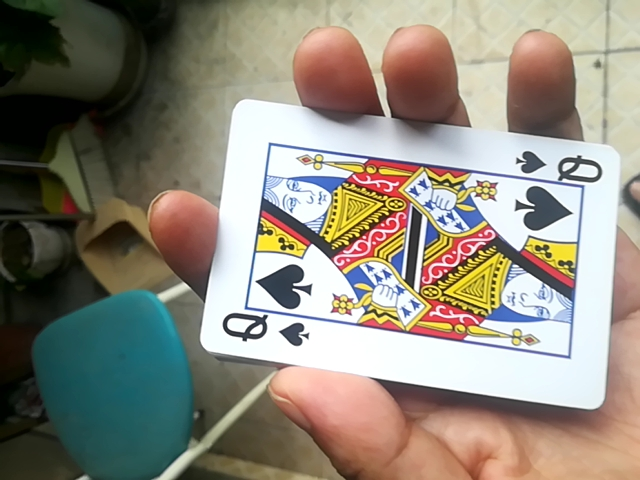ht q: (200, 107, 616, 412)
